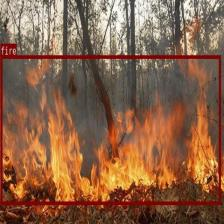fire: (0, 55, 220, 204)
